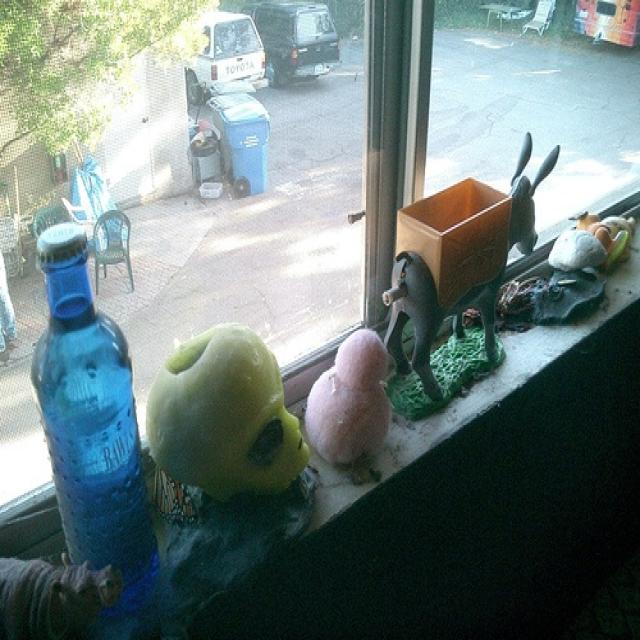bottle: (28, 219, 159, 616)
car: (240, 0, 340, 89), (185, 0, 267, 102)
chair: (92, 210, 134, 295), (32, 203, 73, 229)
